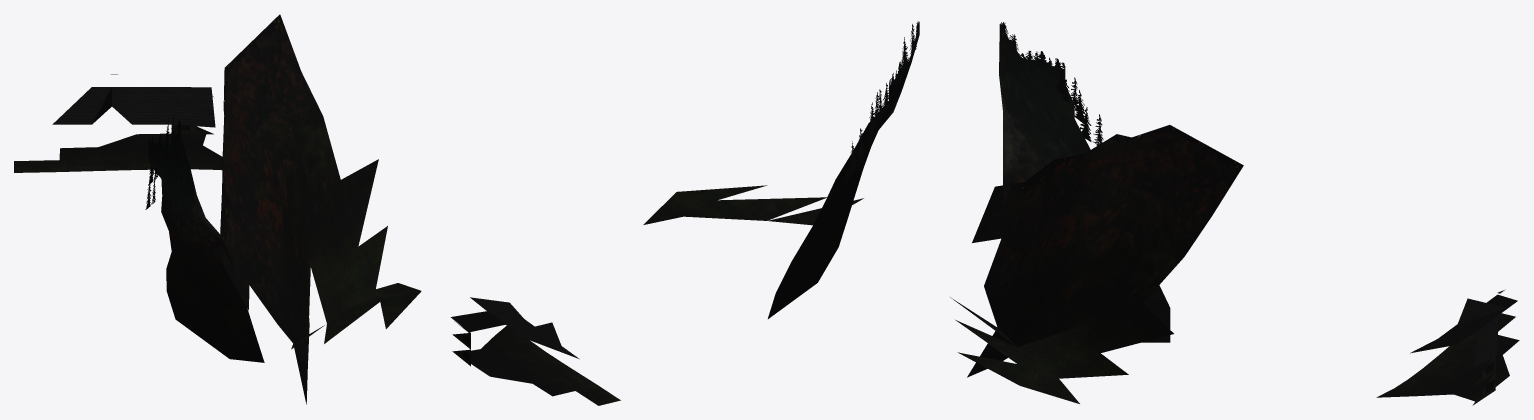
The model's file is cell_1_-9.gltf.
3 renders of one model, left to right at view 1: azimuth 30°, elevation 25°; view 2: azimuth 150°, elevation 25°; view 3: azimuth 270°, elevation 25°, orthographic. The views are drawn at different scales.
Visible parts, largest first — view 1: cell_1_-9; view 2: cell_1_-9; view 3: cell_1_-9.
Boxes of the visible parts, x1,y1,x2,y2 form: cell_1_-9: (14, 14, 421, 404); cell_1_-9: (451, 21, 919, 405); cell_1_-9: (950, 22, 1519, 405).
Bounding box in the file's own units: 166 × 169 × 284.
Materials: 8 (8 with a texture image).
